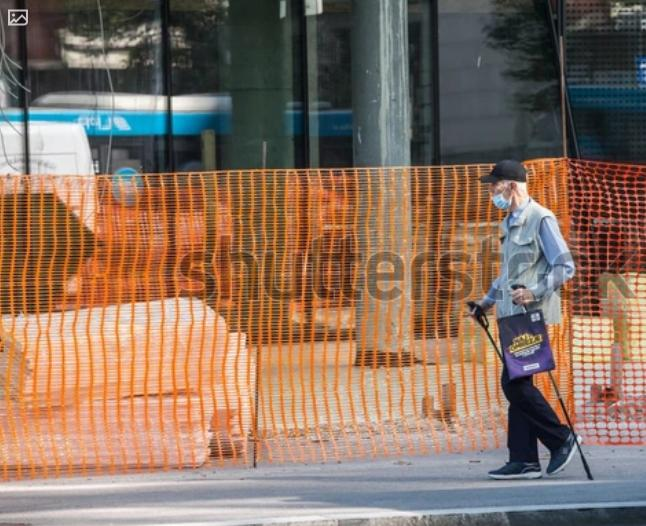crutches: (462, 159, 595, 481)
